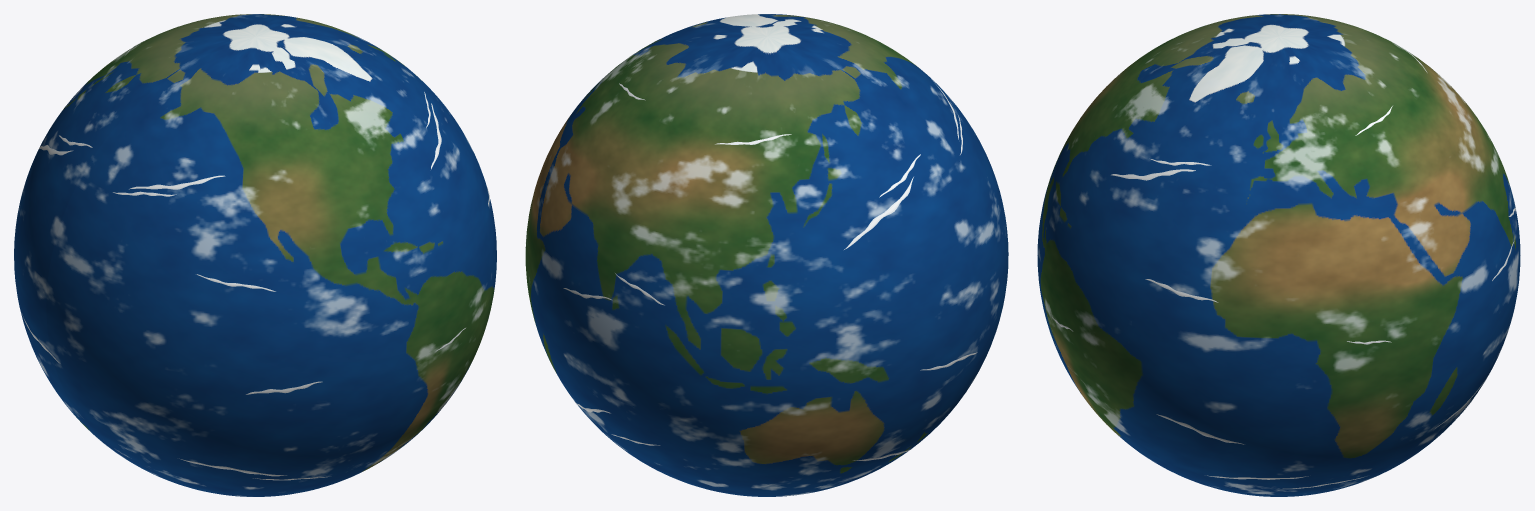
File: earth.glb
3 views of the same model, side by side, from view 1: azimuth 30°, elevation 25°; view 2: azimuth 150°, elevation 25°; view 3: azimuth 270°, elevation 25° (orthographic).
Parts seen in each view (by area): view 1: model; view 2: model; view 3: model.
Part boxes in pixels (bbox=[...]): model: bbox=[14, 14, 496, 496]; model: bbox=[525, 14, 1008, 496]; model: bbox=[1037, 14, 1520, 496].
Size of the model in its own units: 2 by 2 by 2.
Materials: 4 (1 with a texture image).
